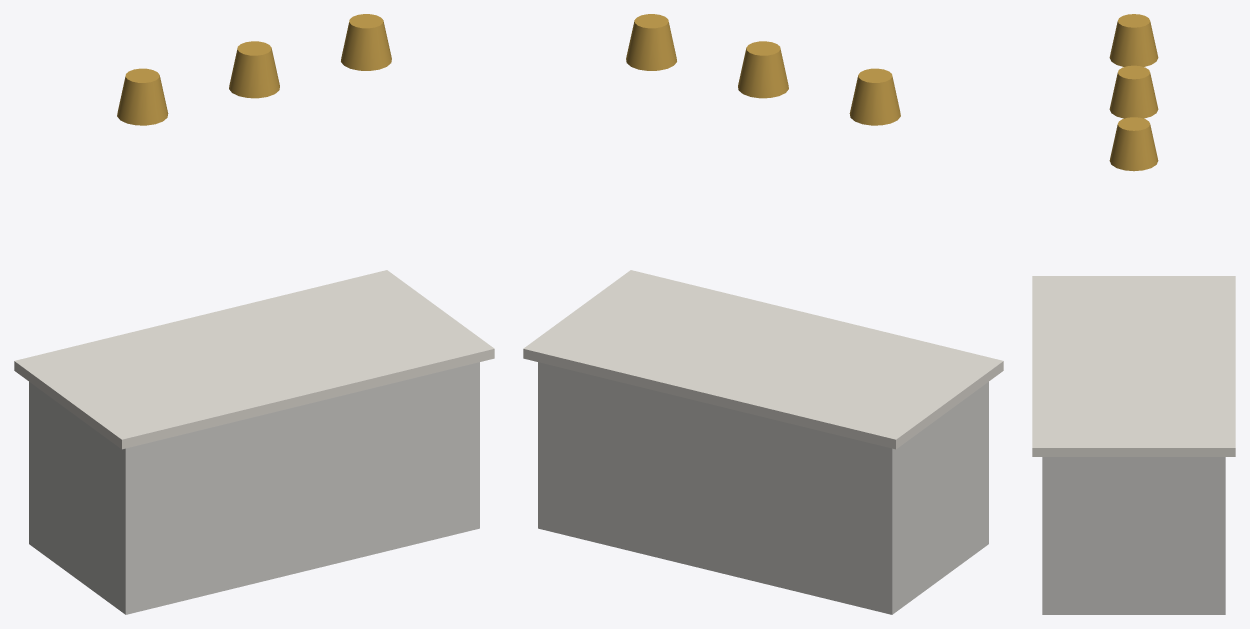
The model's file is island.glb.
The picture shows the model from 3 angles, left to right: view 1: azimuth 30°, elevation 25°; view 2: azimuth 150°, elevation 25°; view 3: azimuth 270°, elevation 25°; orthographic projection. The views are drawn at different scales.
Parts seen in each view (by area): view 1: island; view 2: island; view 3: island.
Boxes of the visible parts, x1,y1,x2,y2 form: island: (14, 14, 494, 614); island: (523, 14, 1003, 614); island: (1032, 14, 1235, 614).
Bounding box in the file's own units: 2 × 2.5 × 1.
